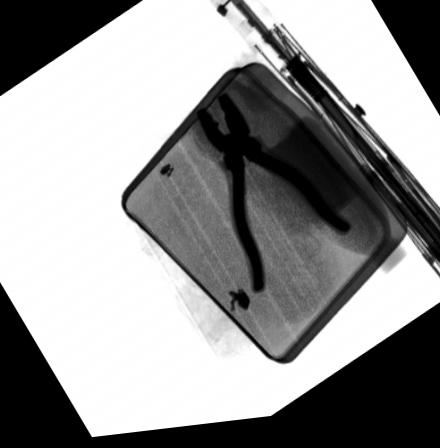Pliers: (194, 95, 353, 299)
